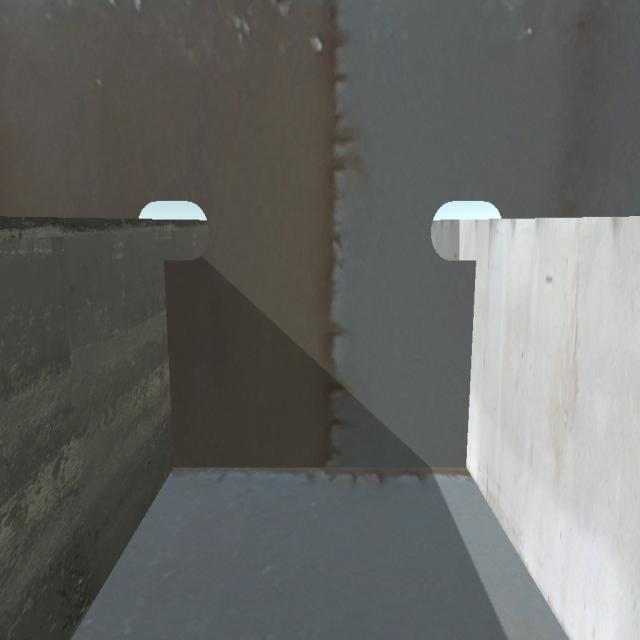fillet_yong_jeop_jang: (163, 454, 474, 484)
longi_yong_jeop_jang: (157, 257, 186, 473), (463, 255, 478, 476)
